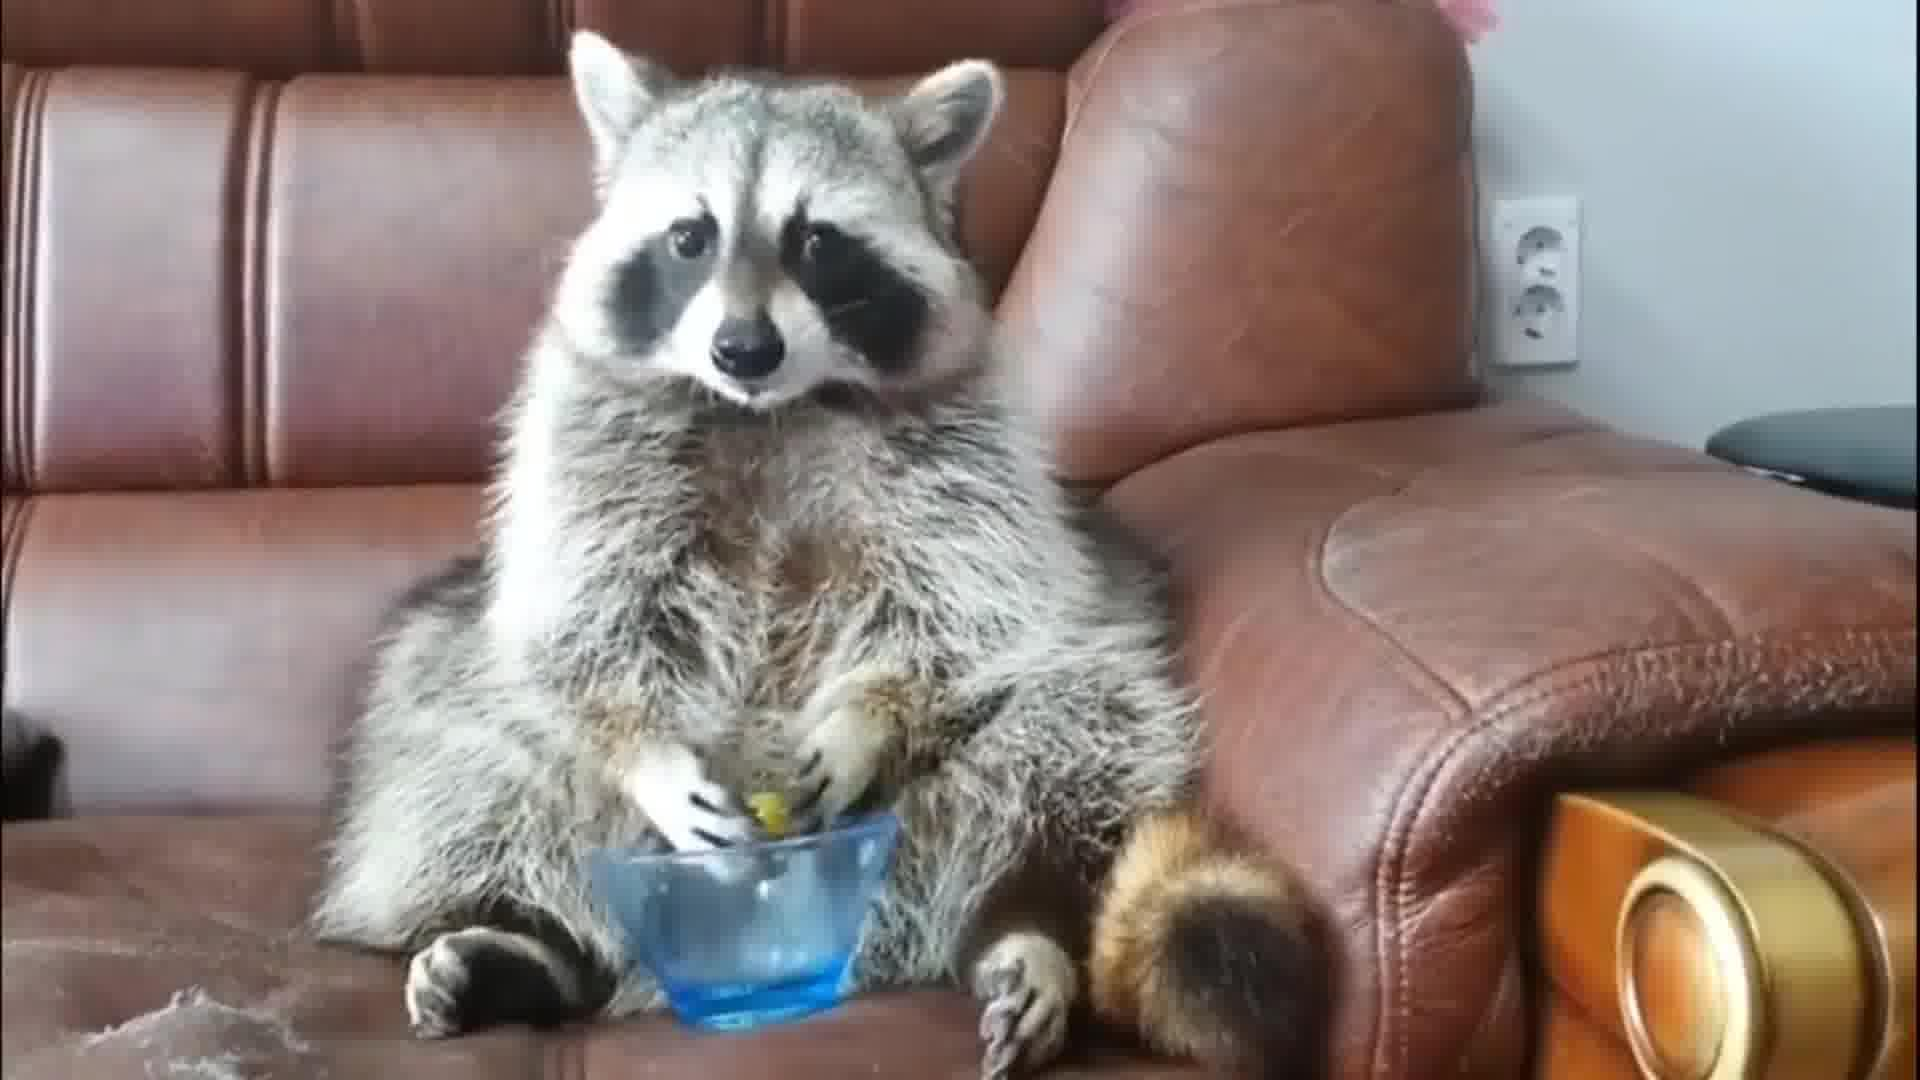raccoon: (313, 26, 1327, 1080)
